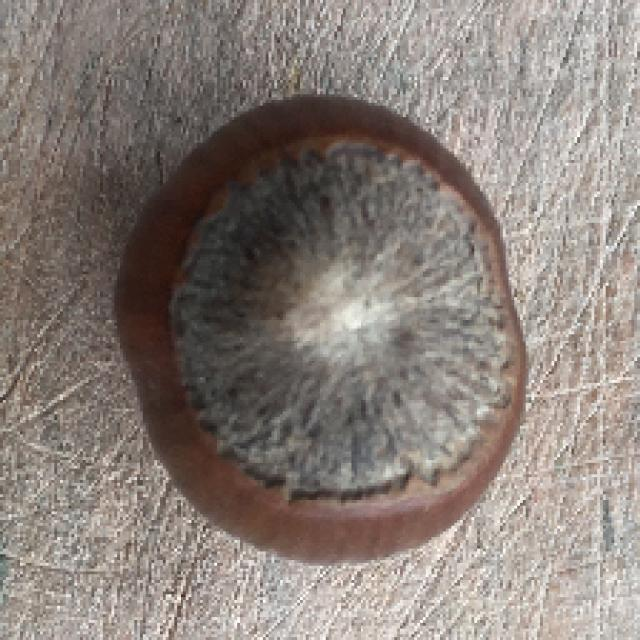DamagedHazelnut: (121, 94, 532, 573)
